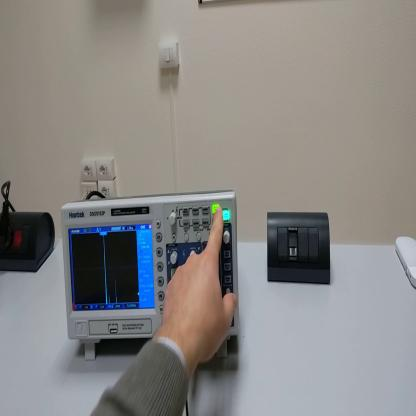hand: (160, 204, 238, 368)
oscilloscope: (62, 193, 241, 363)
socket: (2, 208, 57, 272)
